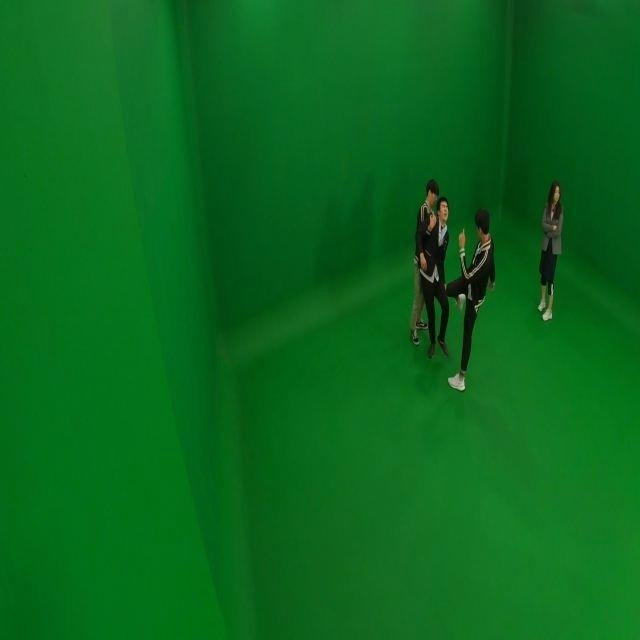fight: (408, 177, 498, 397)
non-fight: (538, 180, 563, 321)
